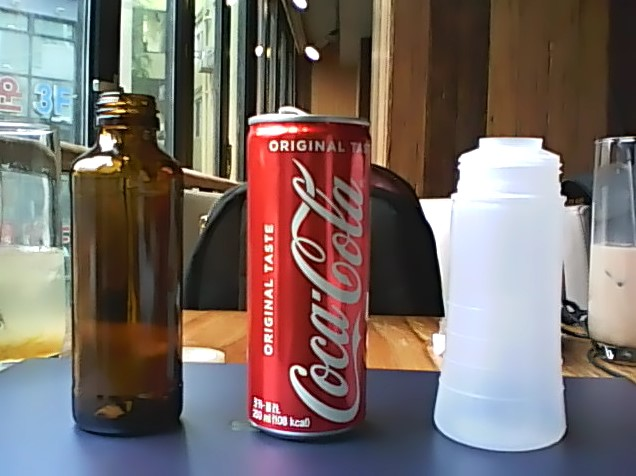Can: (241, 99, 376, 445)
Glass: (63, 84, 190, 441)
Plastic: (425, 128, 573, 457)
